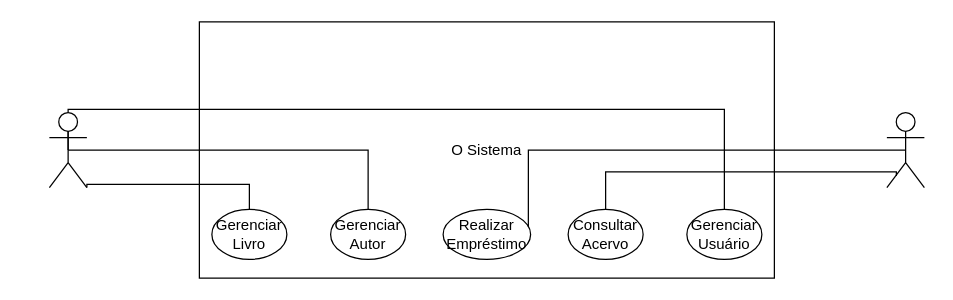
This 953x300 diagram has some shape labels left out. Here are the shapes that lost their labels. From the top down, the centre of each, then its label:
At point (67, 149): "Administrador".
At point (905, 149): "Usuario".
